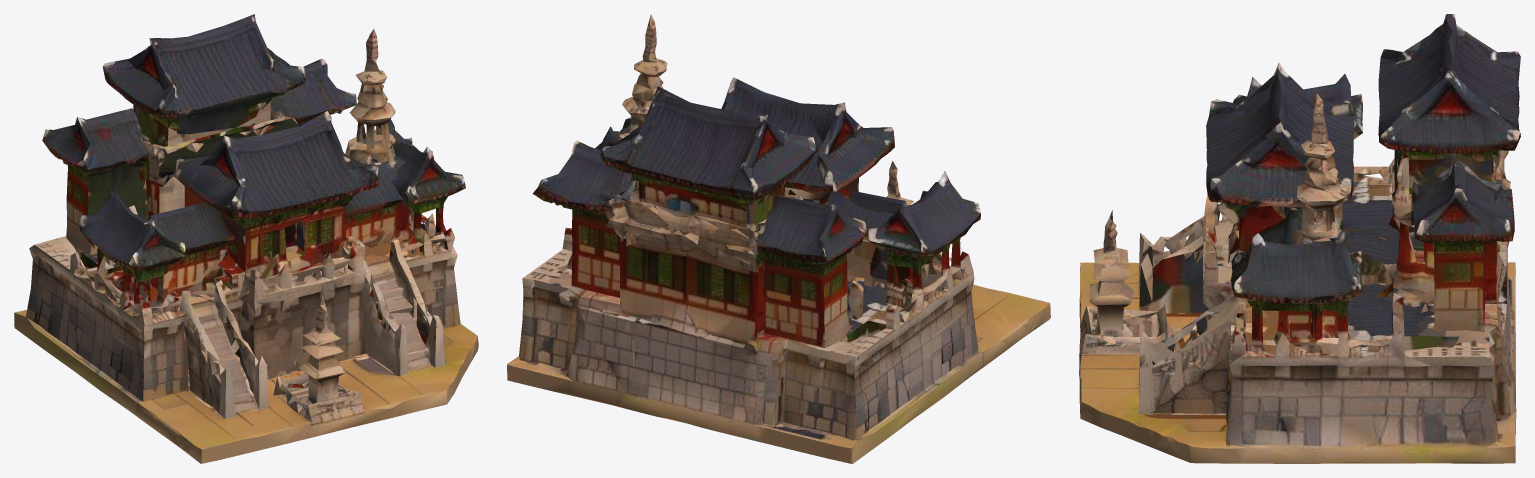
Rendered from bulguksa.glb.
3 views of the same model, side by side, from view 1: azimuth 30°, elevation 25°; view 2: azimuth 150°, elevation 25°; view 3: azimuth 270°, elevation 25° (orthographic). The views are drawn at different scales.
Visible parts, largest first — view 1: logan-textured.obj; view 2: logan-textured.obj; view 3: logan-textured.obj.
Part boxes in pixels (bbox=[...]): logan-textured.obj: bbox=[14, 14, 478, 463]; logan-textured.obj: bbox=[507, 14, 1050, 463]; logan-textured.obj: bbox=[1079, 14, 1520, 463].
Bounding box in the file's own units: 1 × 0.8363 × 0.9776.
1 material, 1 textured.
